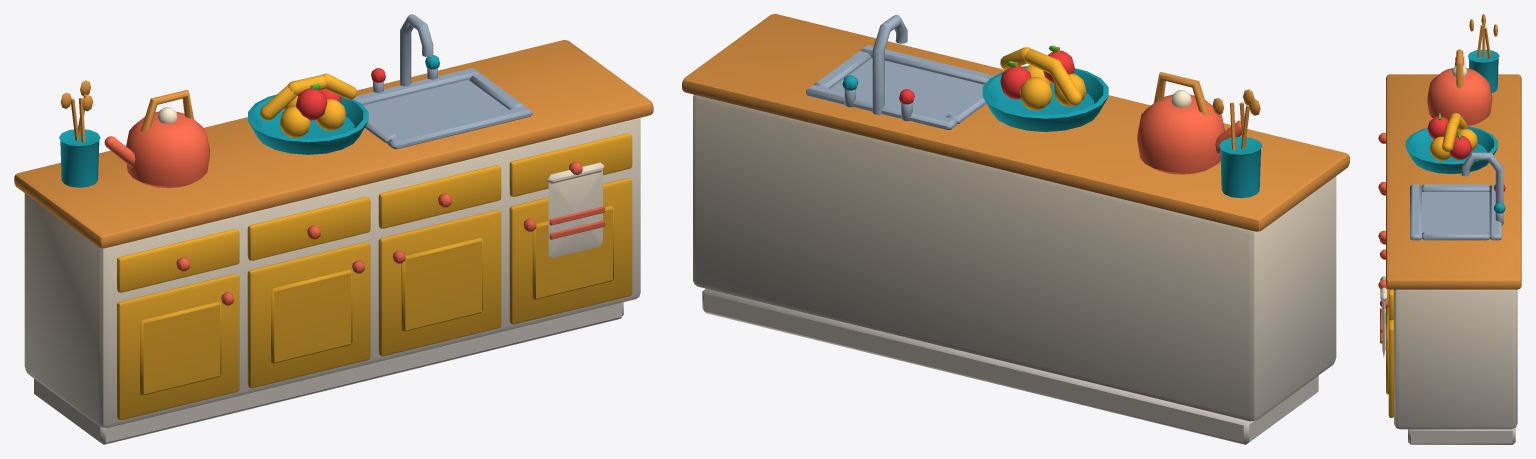
File: kitchen_counter.glb
3 views of the same model, side by side, from view 1: azimuth 30°, elevation 25°; view 2: azimuth 150°, elevation 25°; view 3: azimuth 270°, elevation 25° (orthographic). The views are drawn at different scales.
Visible parts, largest first — view 1: kitchen_counter; view 2: kitchen_counter; view 3: kitchen_counter.
Boxes of the visible parts, box(x1,y1,x2,y2) form: kitchen_counter: box(14, 14, 653, 444); kitchen_counter: box(682, 14, 1349, 444); kitchen_counter: box(1378, 14, 1521, 444).
Size of the model in its own units: 2.46 by 1.34 by 0.718.
